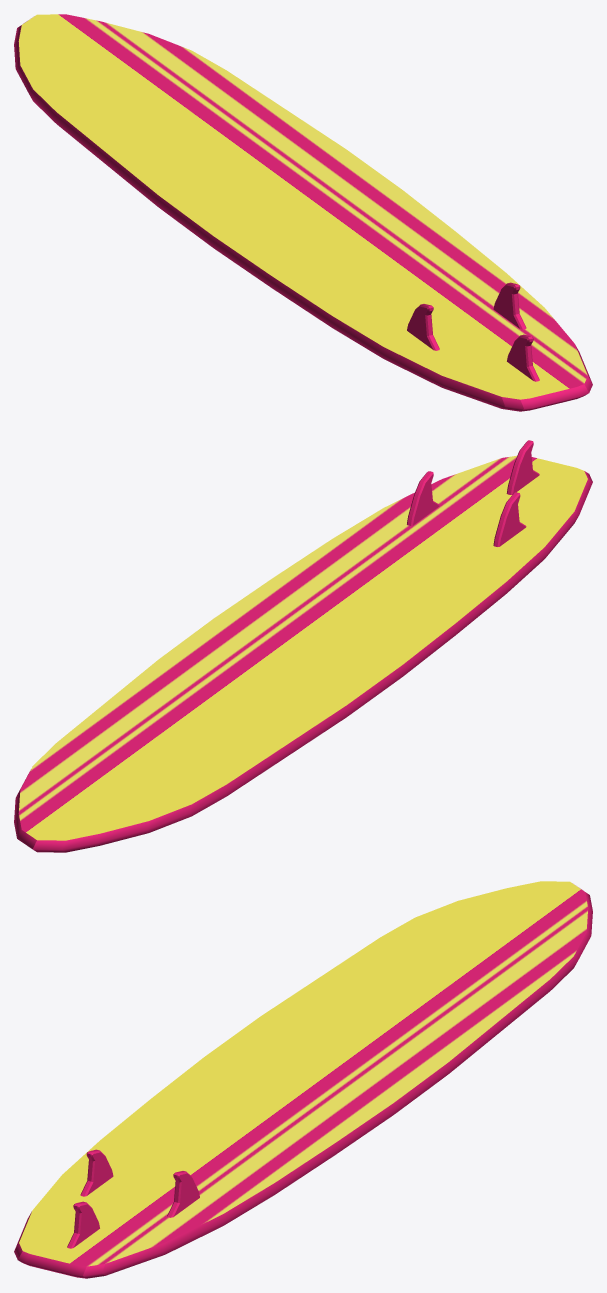
The model's file is surfboard-4.fbx.
3 views of the same model, one above another, from view 1: azimuth 30°, elevation 25°; view 2: azimuth 150°, elevation 25°; view 3: azimuth 330°, elevation 25° (orthographic).
Parts seen in each view (by area): view 1: pCube8; view 2: pCube8; view 3: pCube8.
Boxes of the visible parts, left/top/right/bottom form: pCube8: left=14, top=14, right=592, bottom=411; pCube8: left=14, top=440, right=592, bottom=852; pCube8: left=14, top=881, right=592, bottom=1278.
Size of the model in its own units: 9.89 by 2.48 by 46.66.
Materials: 1 (1 with a texture image).
